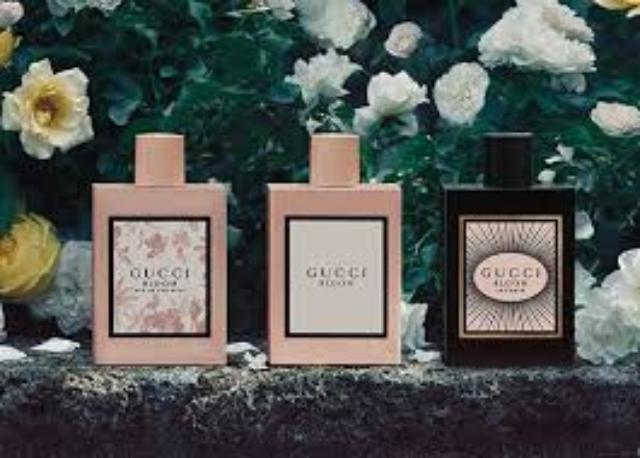Gucci: (116, 248, 207, 304), (468, 250, 556, 304), (291, 256, 383, 296)
